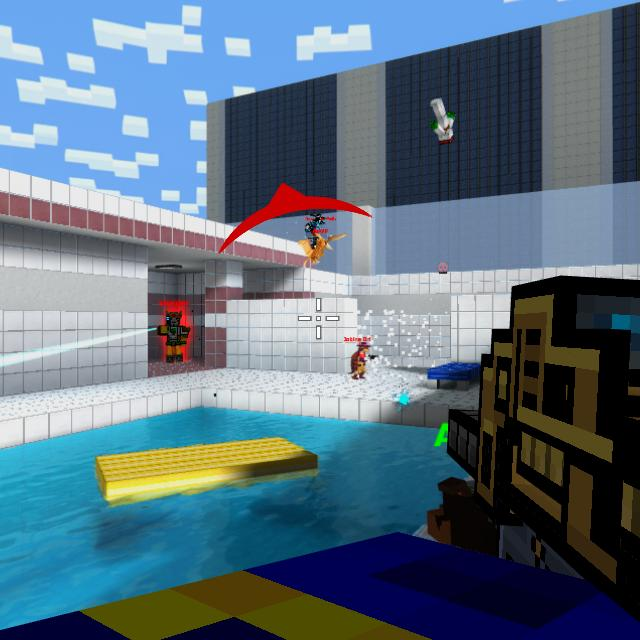Enemy: (158, 312, 190, 362), (352, 347, 368, 380)
